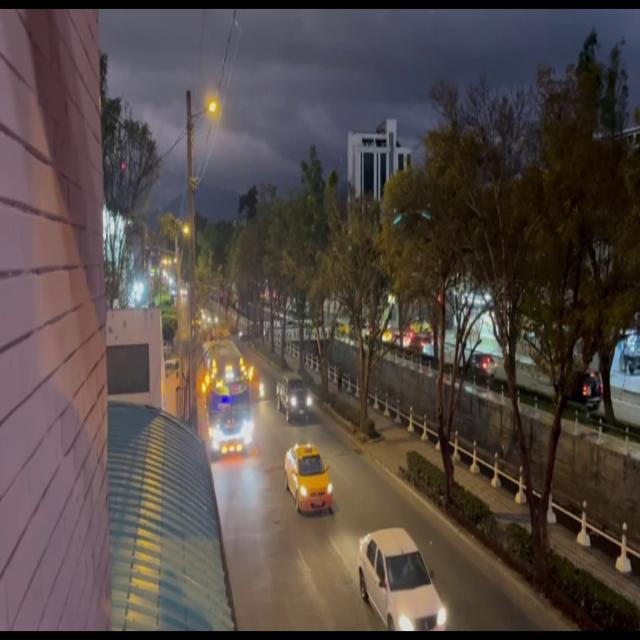BUS: (201, 362, 253, 459)
SED: (361, 534, 443, 638), (287, 448, 330, 514)
